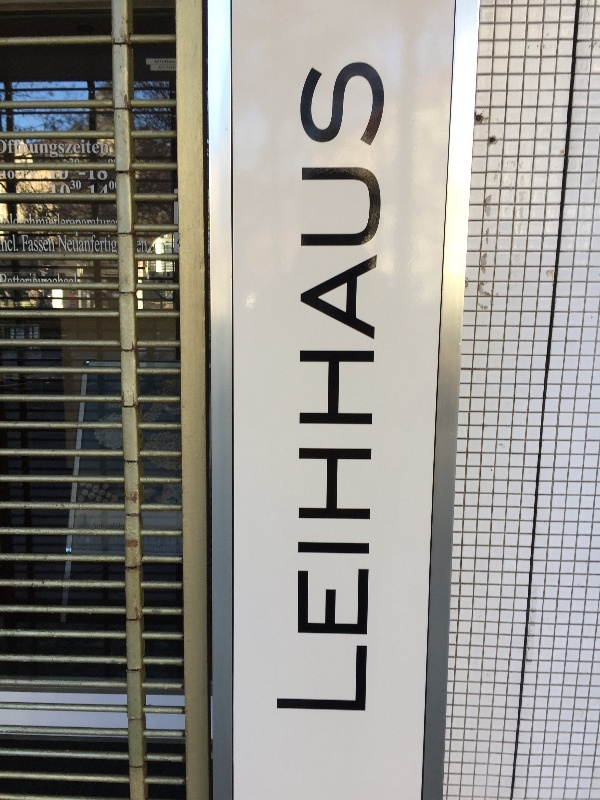text: (305, 61, 320, 715), (321, 61, 336, 715), (337, 61, 352, 715), (353, 61, 368, 715), (369, 61, 384, 715), (302, 61, 304, 715), (385, 61, 386, 715), (1, 139, 16, 161), (17, 139, 32, 161), (33, 139, 48, 161), (49, 139, 64, 161), (65, 139, 80, 161), (81, 139, 96, 161), (65, 235, 80, 255), (81, 235, 96, 255), (97, 235, 112, 255), (97, 139, 109, 161), (33, 235, 48, 252), (1, 235, 16, 252), (17, 213, 32, 225), (33, 213, 48, 225), (49, 213, 64, 225), (65, 213, 80, 225), (81, 213, 96, 225), (97, 213, 112, 225), (22, 235, 32, 252), (1, 273, 16, 283), (17, 273, 32, 283), (33, 273, 48, 283), (49, 273, 64, 283), (4, 213, 16, 225), (50, 184, 64, 194), (65, 171, 80, 180), (81, 171, 96, 180), (17, 170, 32, 179), (2, 170, 16, 179), (58, 235, 64, 255), (49, 235, 56, 252), (65, 273, 76, 283), (97, 184, 108, 194), (52, 171, 64, 180), (113, 235, 118, 255), (70, 180, 80, 190), (97, 171, 108, 180), (137, 241, 144, 253), (88, 184, 96, 194), (113, 213, 118, 225), (65, 184, 71, 194), (69, 159, 80, 163), (17, 235, 19, 252), (109, 181, 112, 190), (113, 181, 116, 190), (33, 170, 36, 179), (145, 241, 147, 253), (108, 159, 112, 163), (81, 180, 82, 190), (113, 159, 115, 163)
